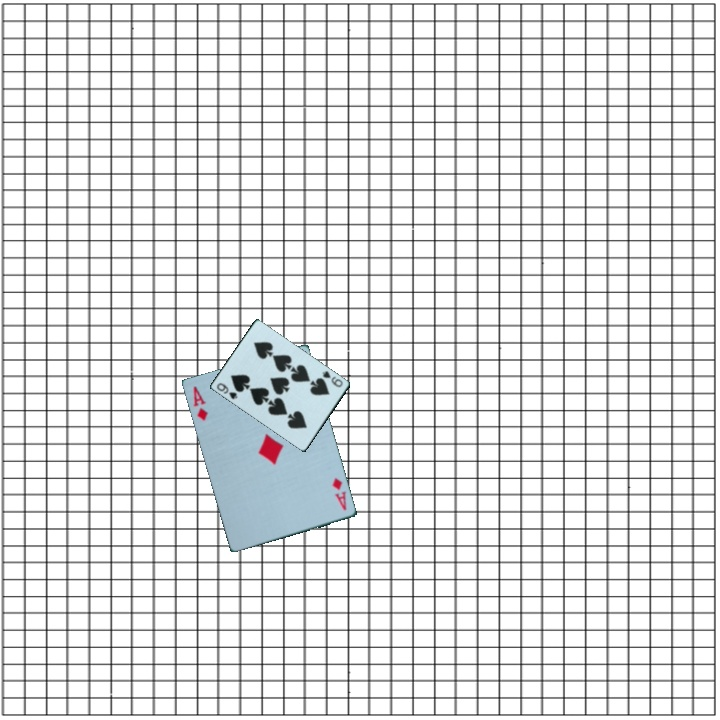9s: (213, 379, 241, 402), (319, 367, 346, 390)
Ad: (190, 383, 211, 424), (329, 474, 350, 514)
